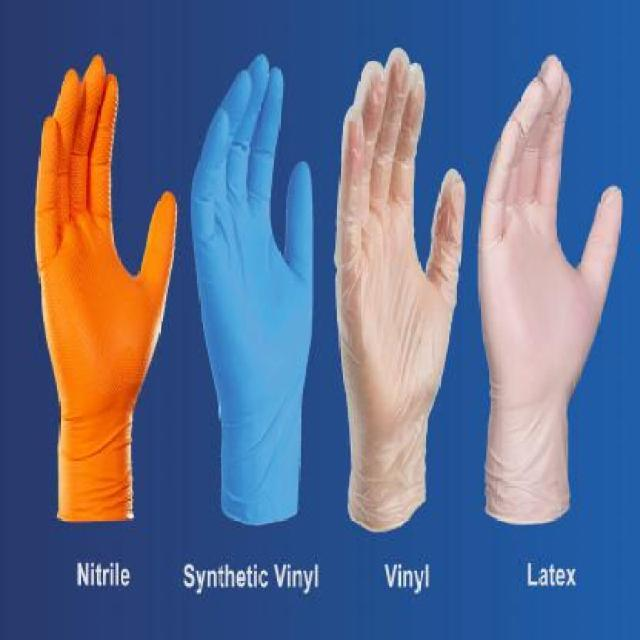glove_hand: (480, 41, 625, 552), (332, 42, 474, 556), (30, 47, 178, 530), (190, 47, 322, 540)
